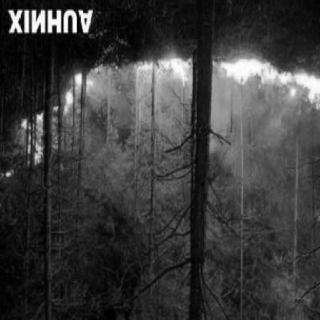Fire: (106, 60, 316, 103)
